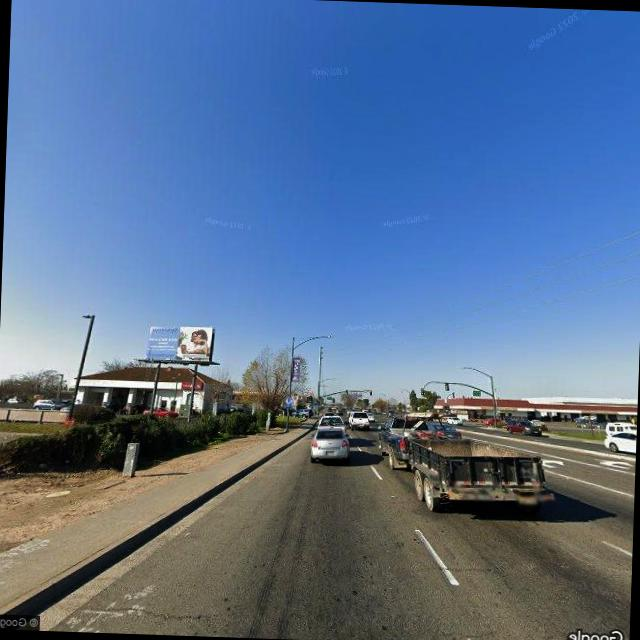crack: (76, 593, 226, 622), (421, 556, 508, 580), (433, 617, 513, 639)
